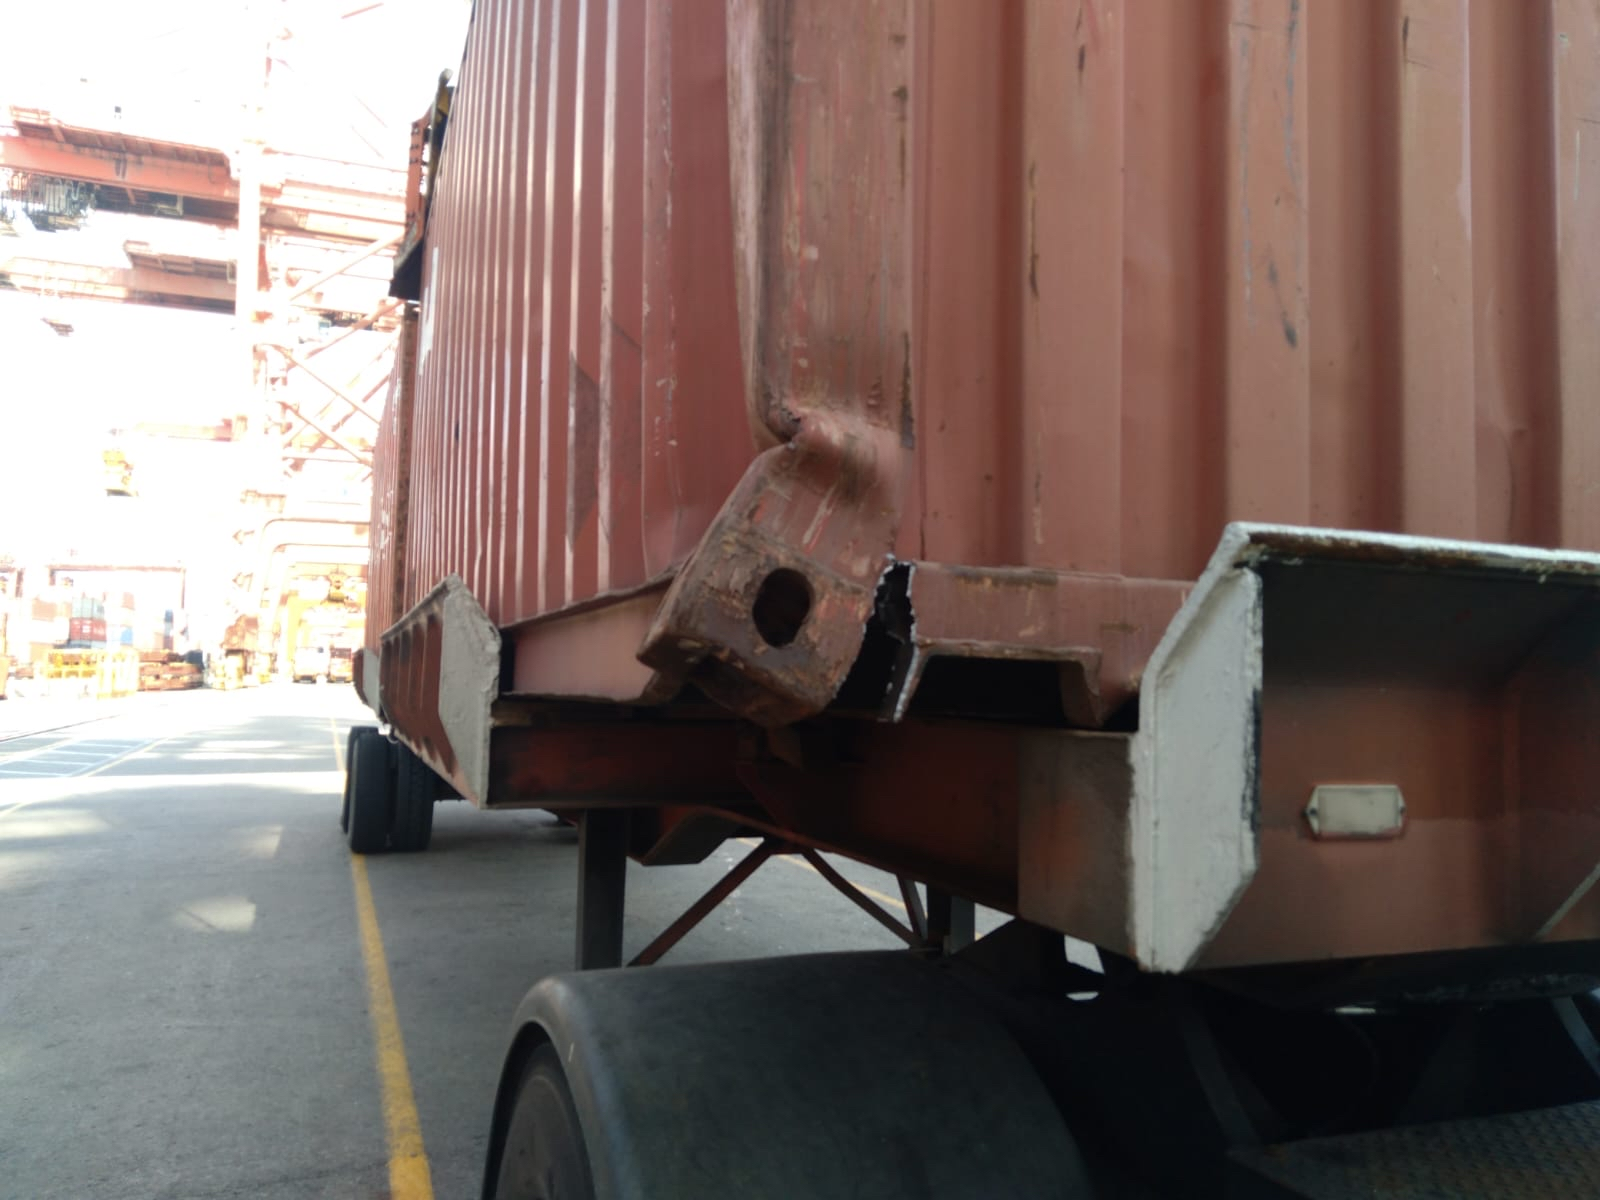corner_post: (577, 1, 973, 722)
front_side: (849, 1, 1595, 711)
right_side: (341, 1, 736, 649)
